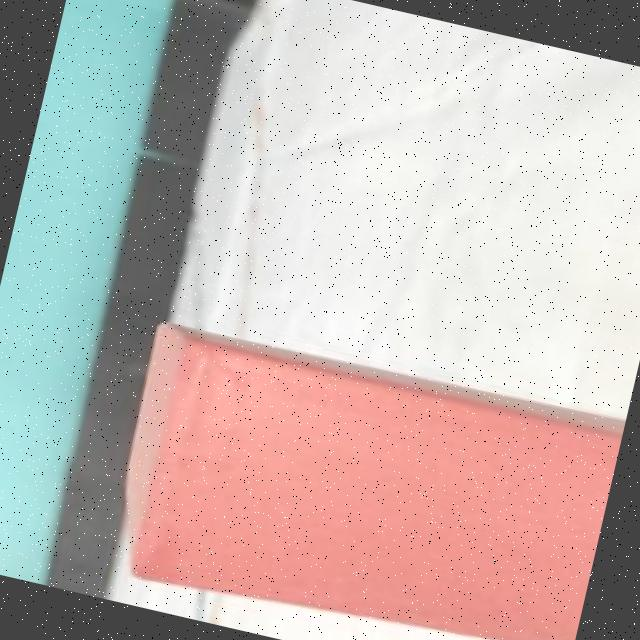redbox: (111, 325, 622, 640)
